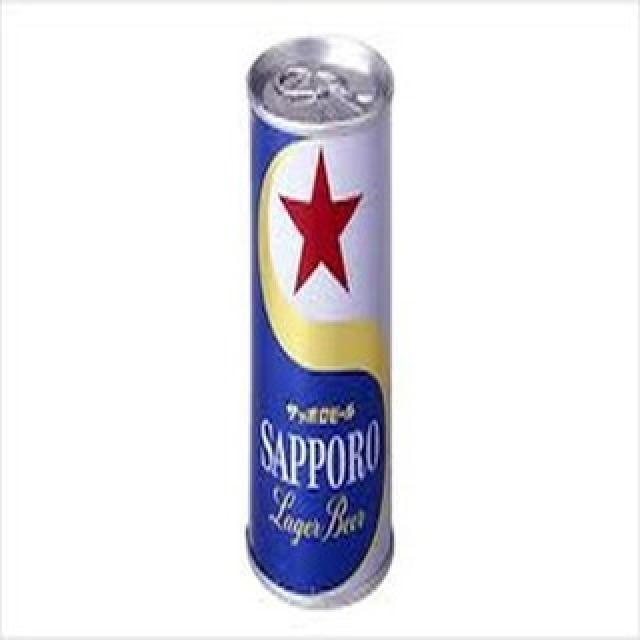can: (245, 32, 396, 612)
